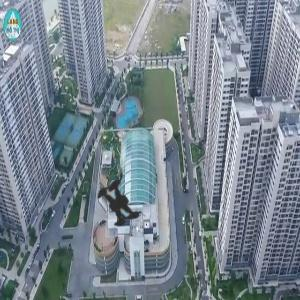drone: (64, 151, 176, 263)
